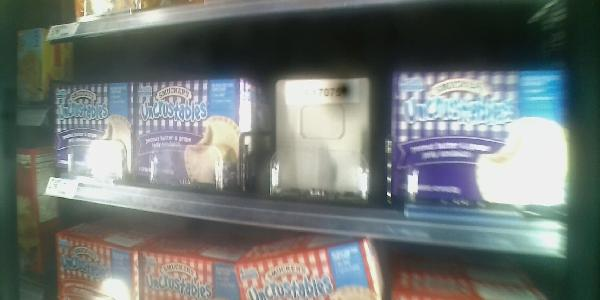icecream: (390, 66, 573, 219), (138, 77, 263, 198), (47, 79, 133, 192)
